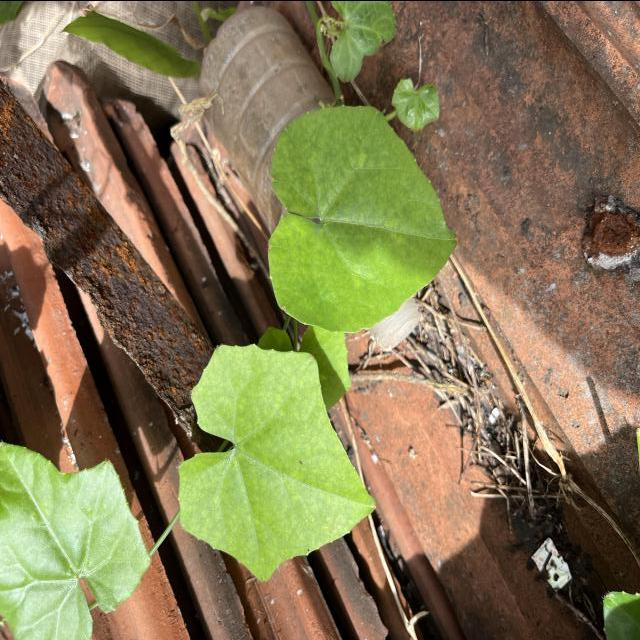Coccinia grandis: (176, 341, 378, 583), (266, 104, 459, 334)
